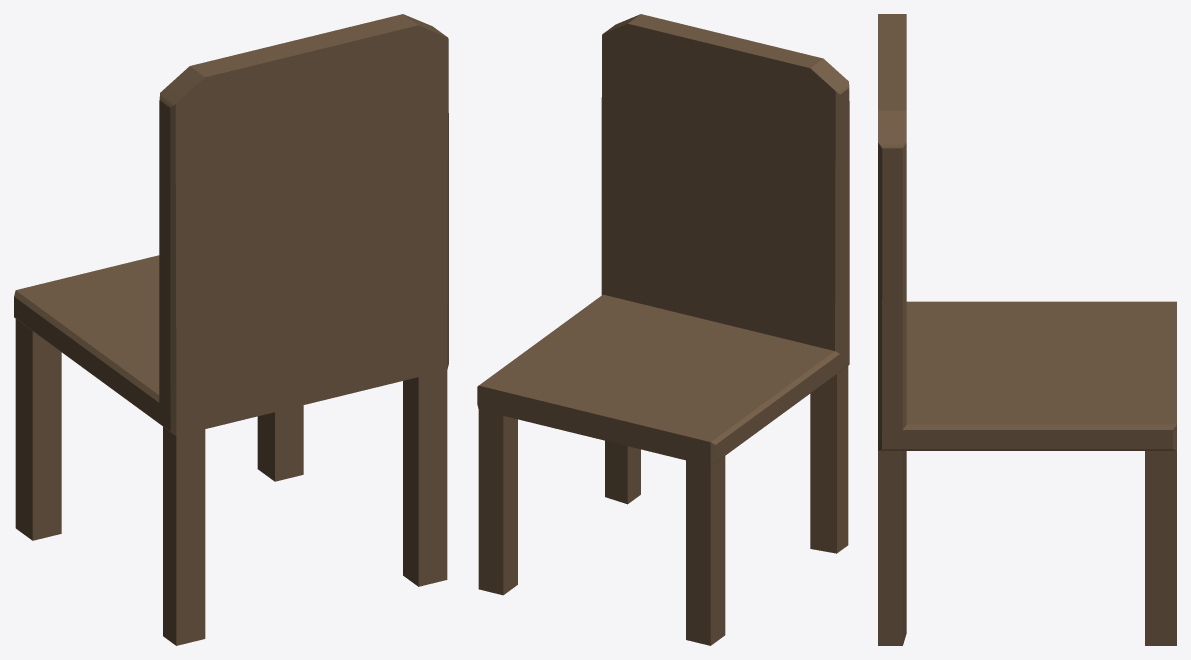
Rendered from Obj_Silla.fbx.
3 views of the same model, side by side, from view 1: azimuth 30°, elevation 25°; view 2: azimuth 150°, elevation 25°; view 3: azimuth 270°, elevation 25° (orthographic). The views are drawn at different scales.
Visible parts, largest first — view 1: Silla; view 2: Silla; view 3: Silla.
Boxes of the visible parts, x1=… form: Silla: x1=14, y1=14, x2=448, y2=645; Silla: x1=477, y1=14, x2=849, y2=645; Silla: x1=878, y1=14, x2=1176, y2=645.
Size of the model in its own units: 1.3 by 2.5 by 1.3.
